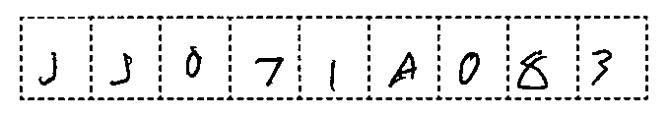0: (176, 39, 210, 83), (452, 46, 486, 89)
1: (319, 55, 346, 93)
3: (584, 43, 614, 90)
7: (250, 52, 288, 90)
8: (513, 46, 557, 94)
A: (383, 50, 422, 90)
J: (32, 45, 67, 90), (105, 47, 138, 90)
